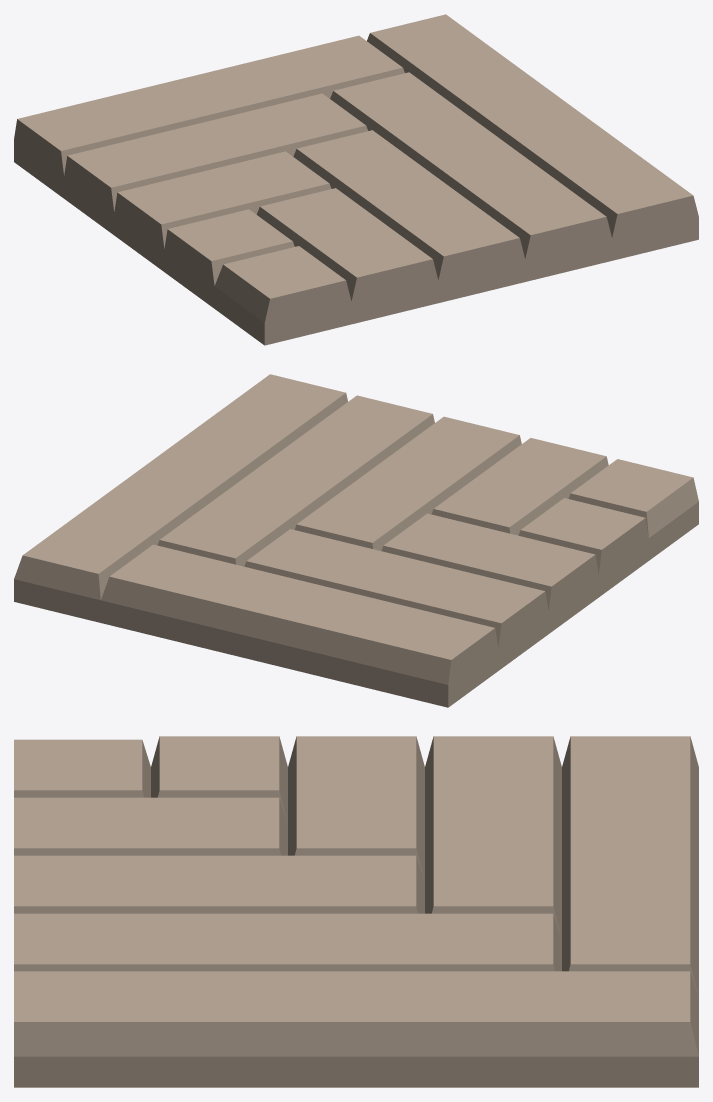
Rendered from Wood_Floor_Corner.glb.
3 views of the same model, one above another, from view 1: azimuth 30°, elevation 25°; view 2: azimuth 150°, elevation 25°; view 3: azimuth 270°, elevation 25° (orthographic). The views are drawn at different scales.
Parts seen in each view (by area): view 1: object1; view 2: object1; view 3: object1.
Boxes of the visible parts, x1,y1,x2,y2 form: object1: (14, 14, 698, 345); object1: (14, 374, 698, 707); object1: (14, 736, 698, 1087).
Size of the model in its own units: 1 by 0.1 by 1.
